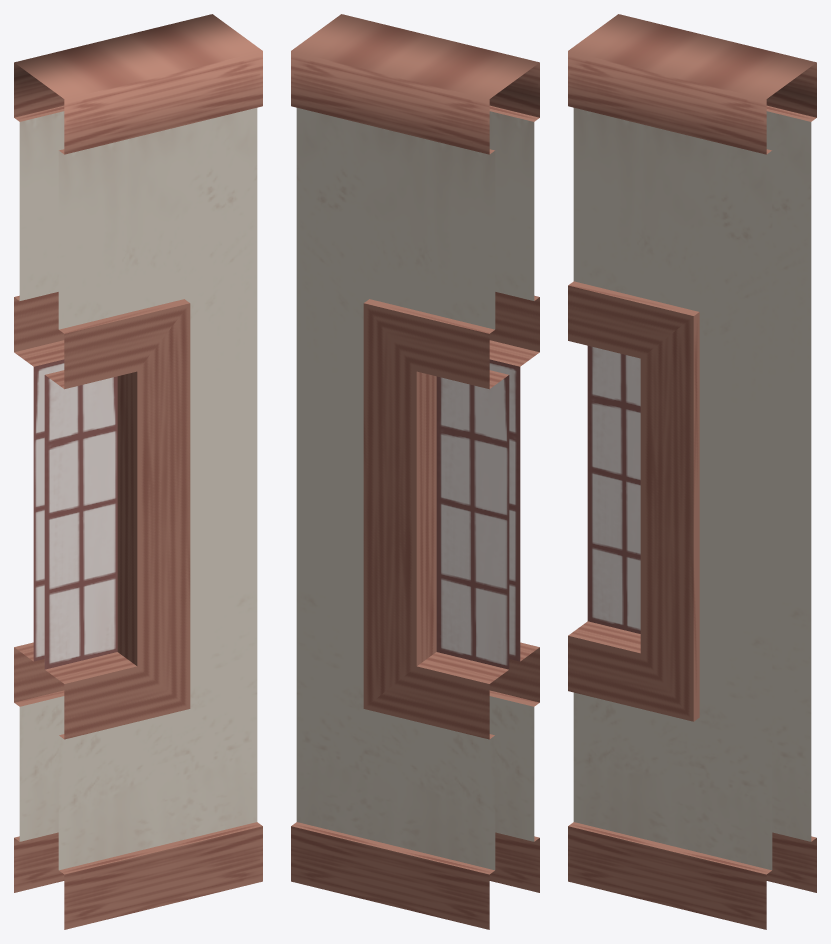
Rendered from paret_finestra_cantonada.fbx.
The picture shows the model from 3 angles, left to right: view 1: azimuth 30°, elevation 25°; view 2: azimuth 150°, elevation 25°; view 3: azimuth 330°, elevation 25°; orthographic projection.
Parts seen in each view (by area): view 1: Pared_Ventana_Costado; view 2: Pared_Ventana_Costado; view 3: Pared_Ventana_Costado.
Boxes of the visible parts, x1,y1,x2,y2 form: Pared_Ventana_Costado: [14, 14, 262, 929]; Pared_Ventana_Costado: [291, 14, 539, 929]; Pared_Ventana_Costado: [568, 14, 816, 929].
Size of the model in its own units: 100 by 400 by 44.
